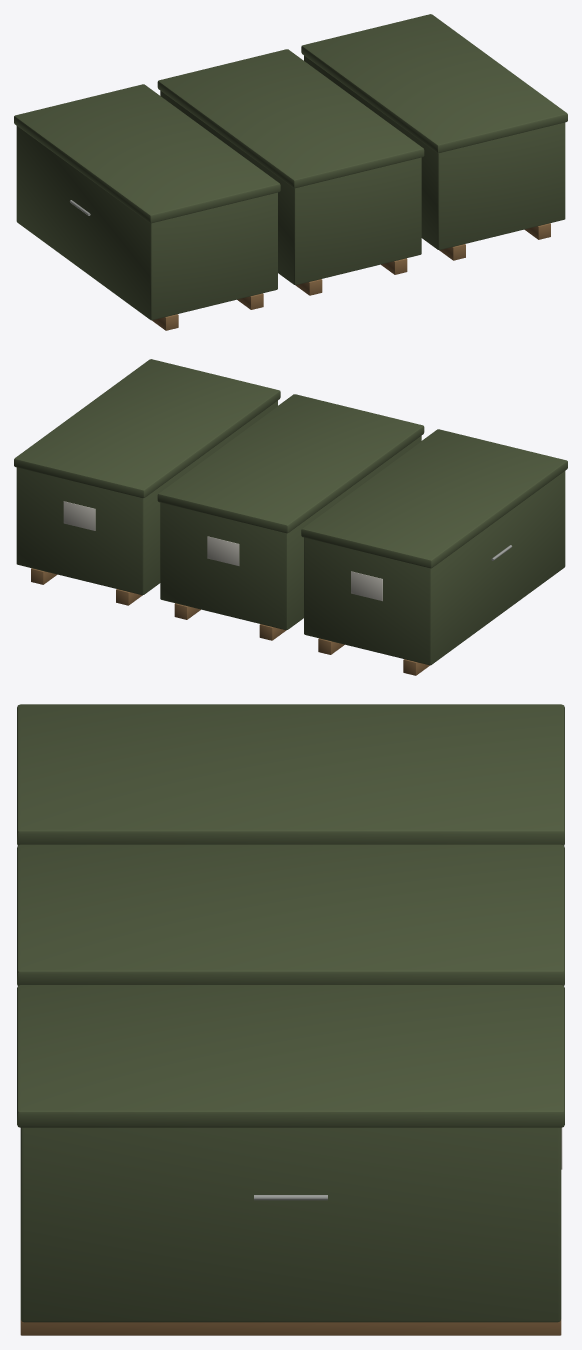
Rendered from polar-chief-stowed.glb.
3 renders of one model, top to bottom at view 1: azimuth 30°, elevation 25°; view 2: azimuth 150°, elevation 25°; view 3: azimuth 270°, elevation 25°, orthographic. The views are drawn at different scales.
Visible parts, largest first — view 1: POLARCHIEF_packed; view 2: POLARCHIEF_packed; view 3: POLARCHIEF_packed.
Part boxes in pixels (left/top/right/bottom): POLARCHIEF_packed: left=14, top=14, right=567, bottom=330; POLARCHIEF_packed: left=14, top=359, right=567, bottom=675; POLARCHIEF_packed: left=17, top=704, right=564, bottom=1335.
Bounding box in the file's own units: 3.98 × 1.08 × 2.23.
